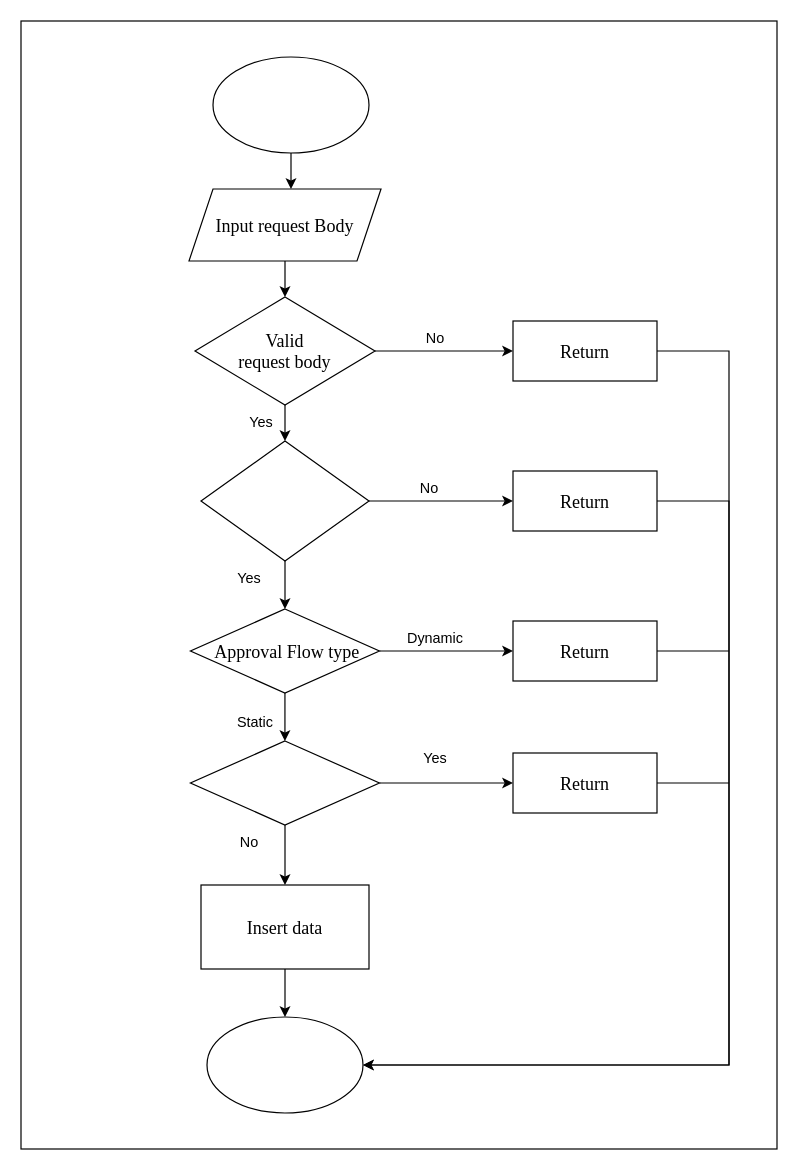
The diagram is 798 pixels wide and 1170 high, and some of its shapes have lost their labels. The shapes that lost their labels are listed below. From the top down, each one's centre as x and y in pixels, then its label:
pixel 290 104: Start
pixel 284 500: Flow name exist
pixel 284 782: Empid exist in hierarchy
pixel 284 1064: End
